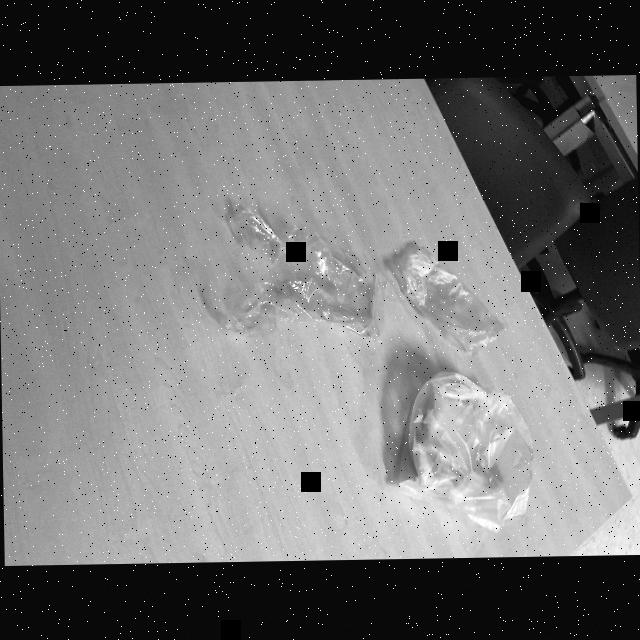plastic_bag: (373, 366, 560, 532)
scrap_plastic: (204, 205, 398, 346), (392, 256, 509, 350)
